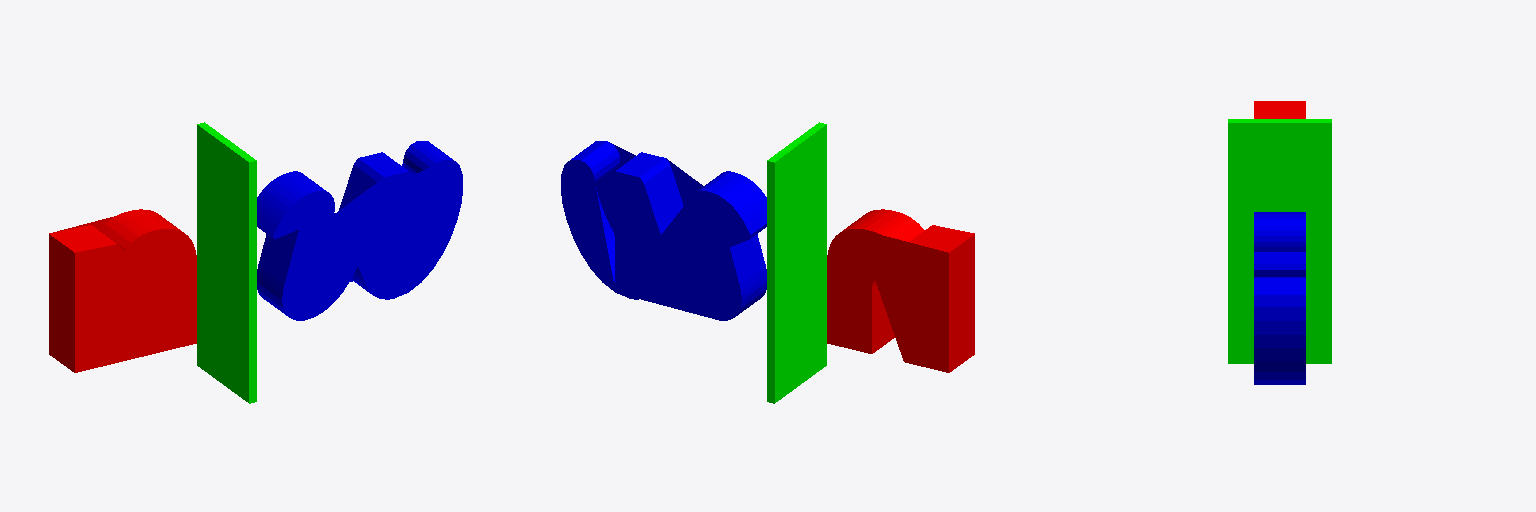
File: fhnw.obj
The picture shows the model from 3 angles: view 1: azimuth 30°, elevation 25°; view 2: azimuth 150°, elevation 25°; view 3: azimuth 270°, elevation 25°; orthographic projection.
Parts seen in each view (by area): view 1: w, n, bar; view 2: w, n, bar; view 3: bar, w, n.
Part boxes in pixels (left/top/right/bottom): w: left=257, top=141, right=462, bottom=320; n: left=49, top=209, right=196, bottom=372; bar: left=197, top=122, right=256, bottom=403; w: left=561, top=141, right=766, bottom=320; n: left=827, top=209, right=974, bottom=372; bar: left=767, top=122, right=826, bottom=403; bar: left=1228, top=119, right=1331, bottom=363; w: left=1254, top=212, right=1305, bottom=384; n: left=1254, top=101, right=1305, bottom=118.
Bounding box in the file's own units: 1.11 × 0.659 × 0.26.